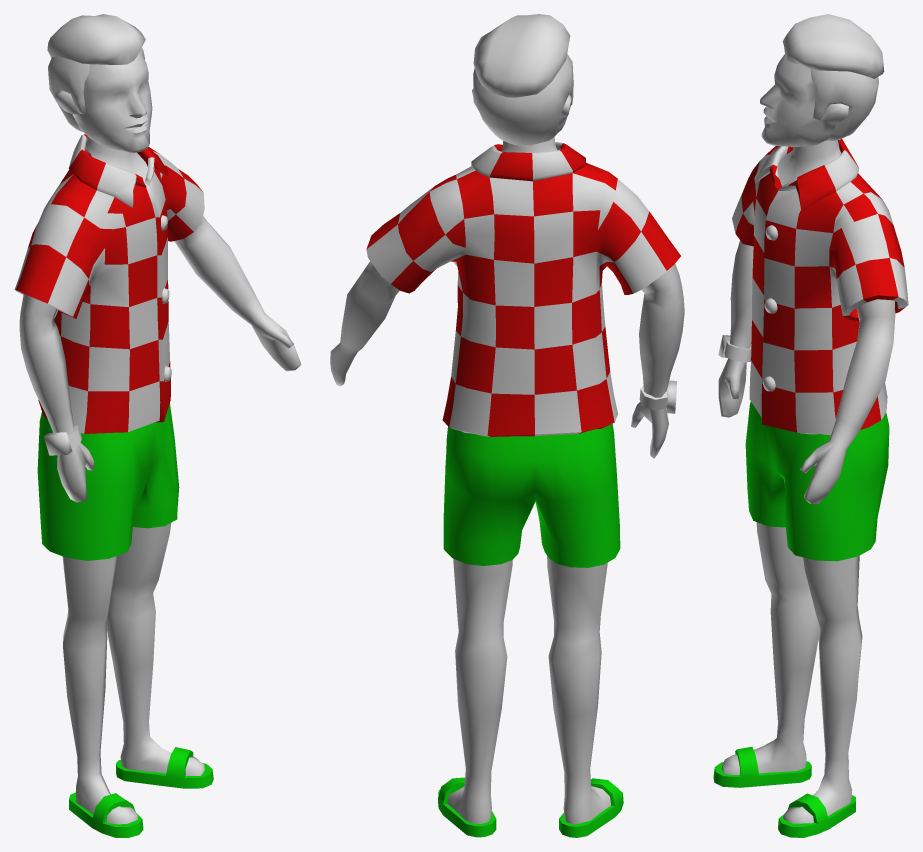
File: barbie_ken-v1.glb
3 views of the same model, side by side, from view 1: azimuth 30°, elevation 25°; view 2: azimuth 150°, elevation 25°; view 3: azimuth 270°, elevation 25° (orthographic). The views are drawn at different scales.
Visible parts, largest first — view 1: item_barbie_ken_collect.Pink.001; view 2: item_barbie_ken_collect.Pink.001; view 3: item_barbie_ken_collect.Pink.001.
Boxes of the visible parts, left/top/right/bottom form: item_barbie_ken_collect.Pink.001: left=14, top=14, right=301, bottom=837; item_barbie_ken_collect.Pink.001: left=330, top=14, right=684, bottom=837; item_barbie_ken_collect.Pink.001: left=713, top=14, right=908, bottom=837.
Size of the model in its own units: 0.8095 by 1.98 by 0.4551.
